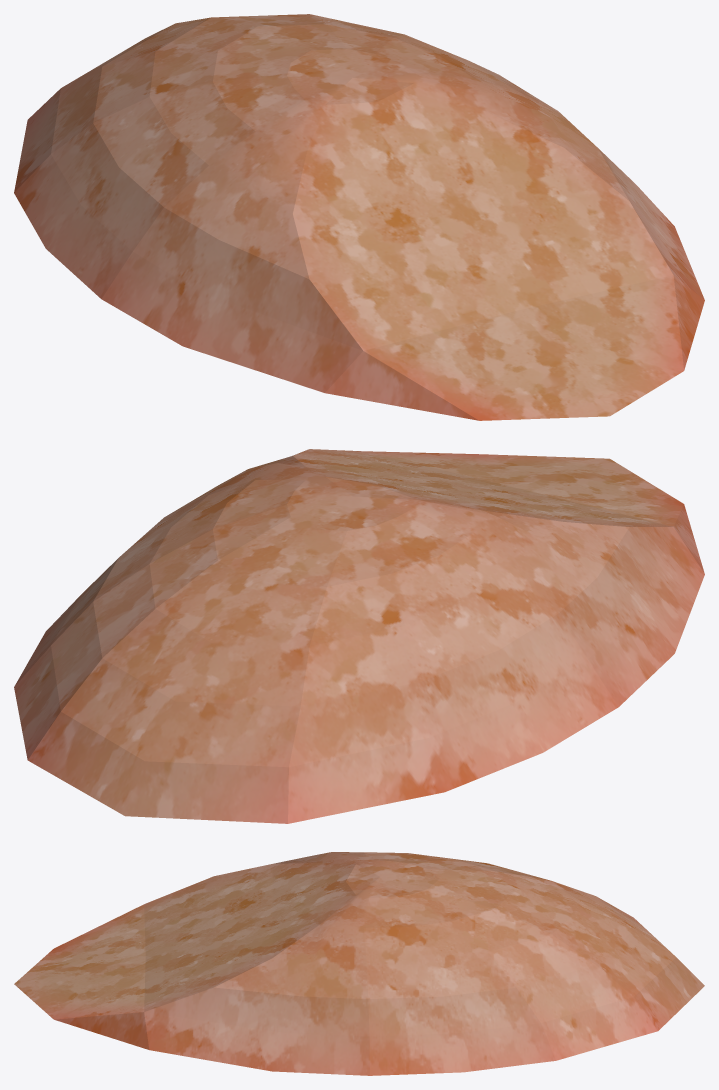
Rendered from dunes_sand_right.fbx.
3 views of the same model, one above another, from view 1: azimuth 30°, elevation 25°; view 2: azimuth 150°, elevation 25°; view 3: azimuth 270°, elevation 25° (orthographic). The views are drawn at different scales.
Visible parts, largest first — view 1: dunes_sand_right; view 2: dunes_sand_right; view 3: dunes_sand_right.
Boxes of the visible parts, x1=… form: dunes_sand_right: x1=14, y1=14, x2=704, y2=420; dunes_sand_right: x1=14, y1=449, x2=704, y2=823; dunes_sand_right: x1=14, y1=852, x2=704, y2=1075.
Bounding box in the file's own units: 1109 × 313 × 1800.
